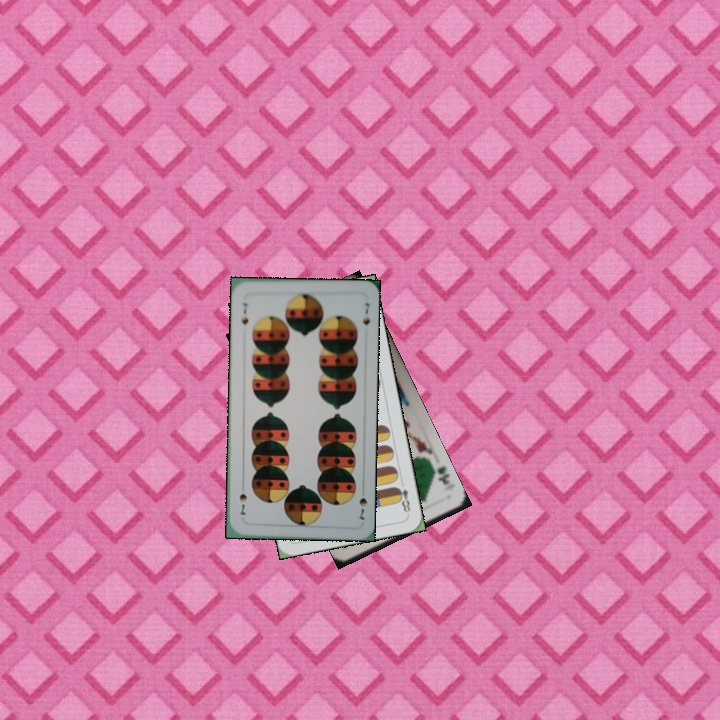E8: (392, 476, 413, 517)
GK: (428, 461, 452, 487)
S7: (355, 494, 370, 522), (237, 299, 251, 329)
